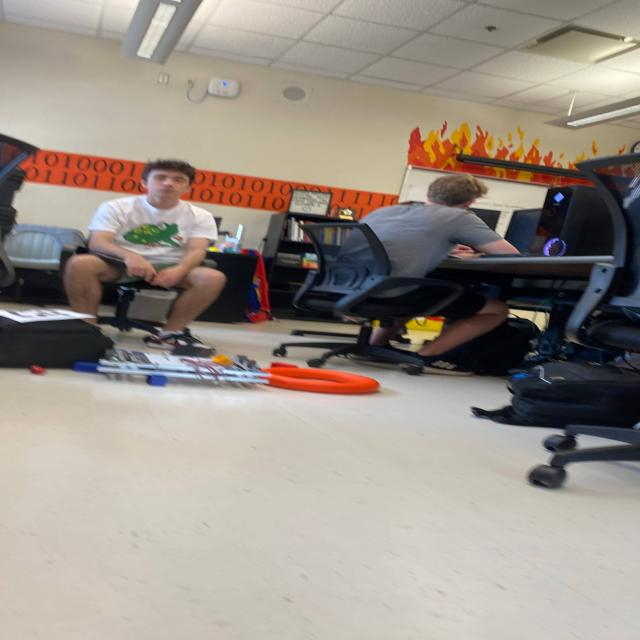blue-specimen: (72, 362, 101, 374), (146, 376, 168, 386)
red-specimen: (271, 363, 298, 369)
yellow-specimen: (211, 355, 233, 366)
